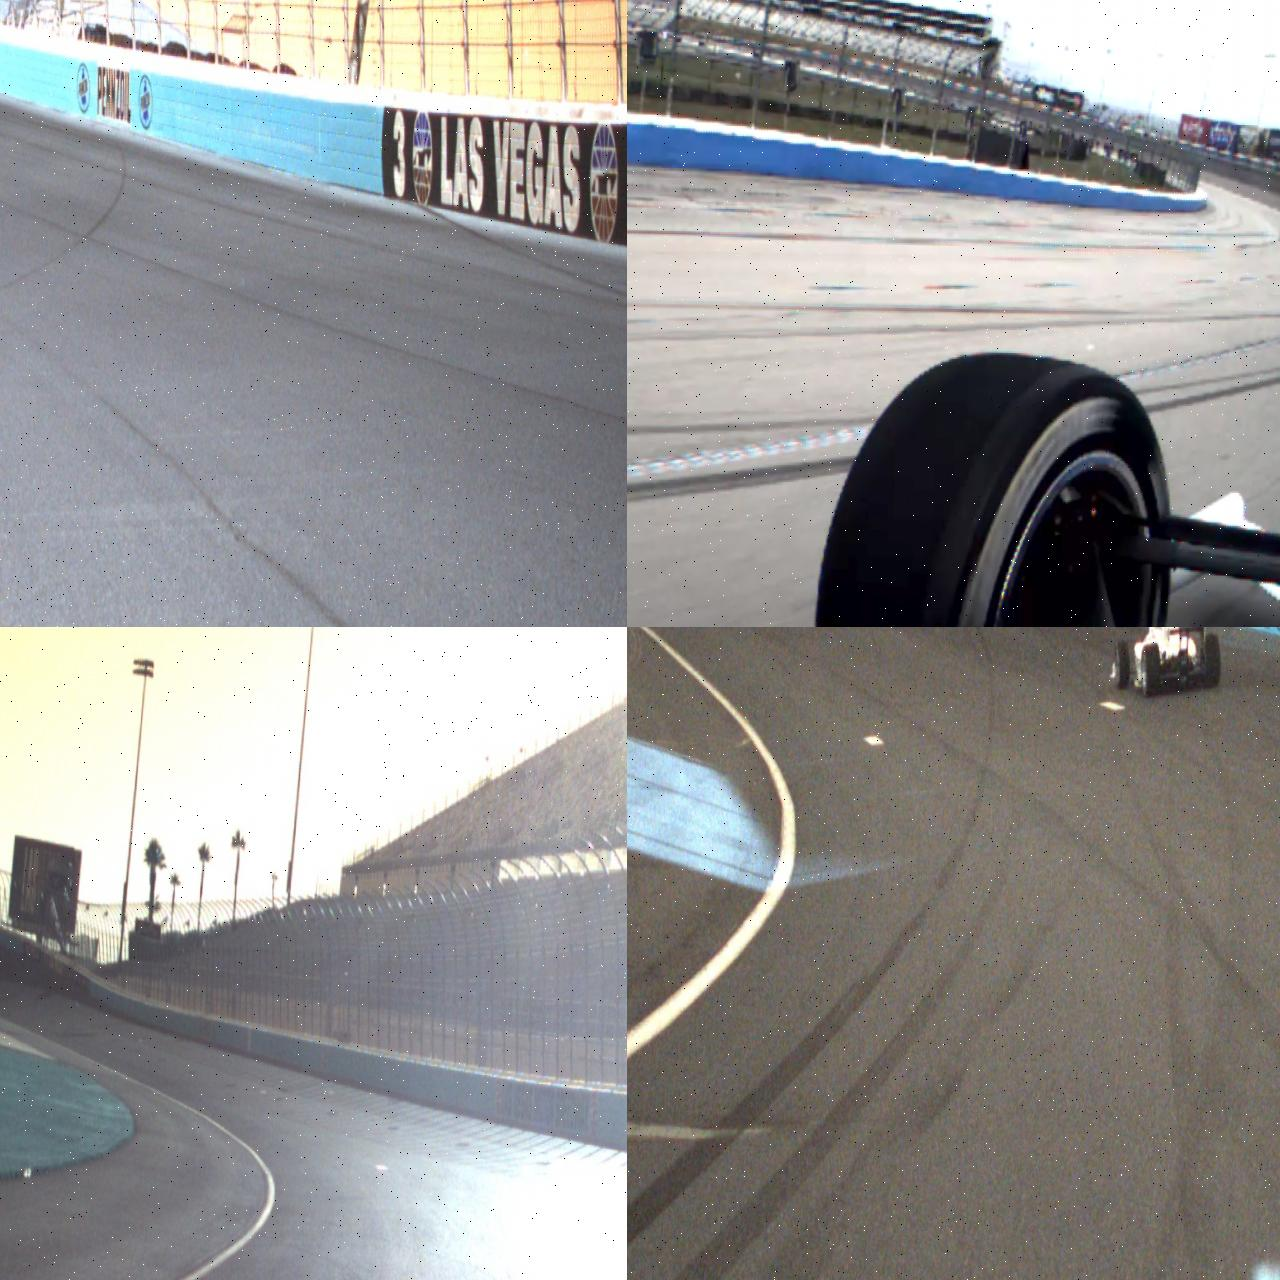AV: (1109, 627, 1223, 699)
Wheel: (808, 349, 1178, 627), (1200, 635, 1221, 688), (1141, 642, 1160, 697), (1114, 640, 1130, 689)
